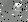person: (14, 5, 23, 15)
